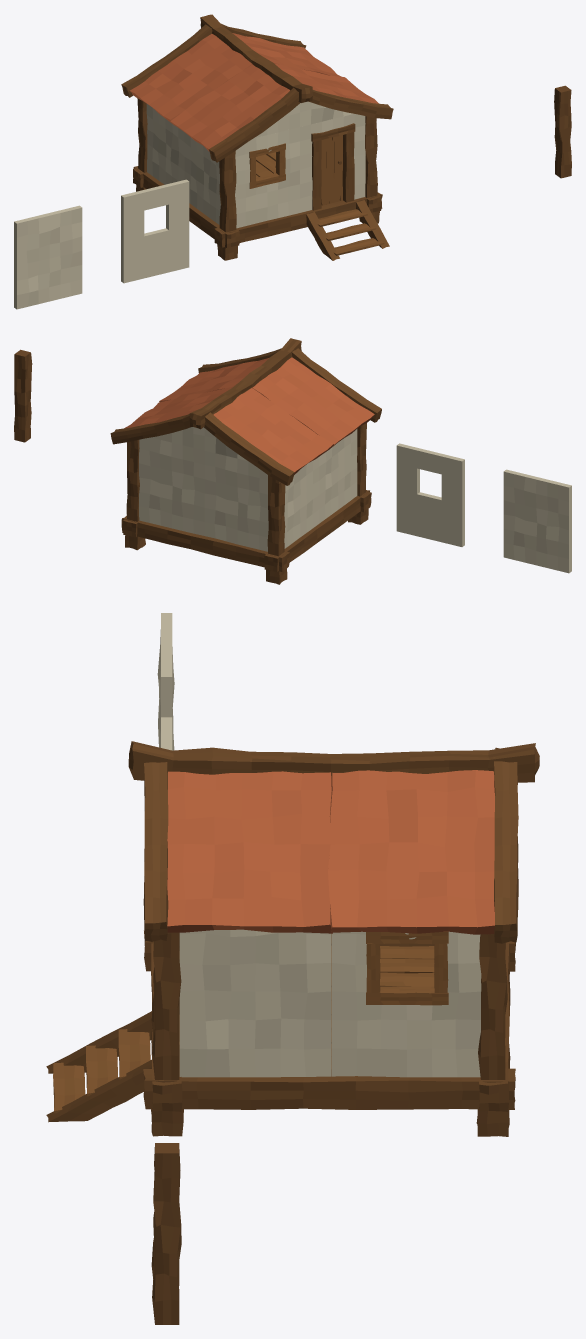
File: house_pieces.glb
3 views of the same model, one above another, from view 1: azimuth 30°, elevation 25°; view 2: azimuth 150°, elevation 25°; view 3: azimuth 270°, elevation 25° (orthographic). The views are drawn at different scales.
Parts seen in each view (by area): view 1: Wall, Wall.001, Cube.022, Cube.016, Wall.002, Doorway, Wall.006, Wall.004, Cube.030, Cube.011, Cube.015, Cube.021 (+22 smaller); view 2: Wall, Wall.001, Wall.008, Wall.007, Cube.016, Cube.022, Wall.004, Cube.029, Wall.006, Cube.011, Cube.023, Cube.028 (+11 smaller); view 3: Cube.021, Cube.010, Wall.003, Wall.005, Cube.027, Cube.011, Pillar, Cube.024, Cube.013, Pillar.001, Pillar.003, Cube.051 (+9 smaller).
Boxes of the visible parts, x1,y1,x2,y2 form: Wall: (14,205,82,309); Wall.001: (121,179,189,283); Cube.022: (130,34,252,125); Cube.016: (170,64,289,151); Wall.002: (235,127,299,228); Doorway: (300,114,365,212); Wall.006: (146,104,184,184); Wall.004: (184,132,220,224); Cube.030: (214,192,382,247); Cube.011: (200,14,312,102); Cube.015: (209,87,300,162); Cube.021: (232,33,341,76); Wall: (503,469,571,573); Wall.001: (396,443,464,546); Wall.008: (139,437,204,535); Wall.007: (204,451,268,551); Cube.016: (252,357,374,448); Cube.022: (213,388,333,474); Wall.004: (319,429,357,523); Cube.029: (121,515,289,571); Wall.006: (284,457,319,548); Cube.011: (189,338,301,429); Cube.023: (204,412,294,485); Cube.028: (264,490,369,571); Cube.021: (328,770,494,934); Cube.010: (167,771,332,933); Wall.003: (179,929,330,1077); Wall.005: (331,931,481,1077); Cube.027: (143,1068,515,1109); Cube.011: (128,741,539,782); Pillar: (151,1143,181,1324); Cube.024: (494,757,518,943); Cube.013: (143,762,168,941); Pillar.001: (151,932,181,1080); Pillar.003: (478,934,507,1079); Cube.051: (46,1059,151,1122).
Size of the model in its own units: 16.89 by 4.62 by 6.52.
